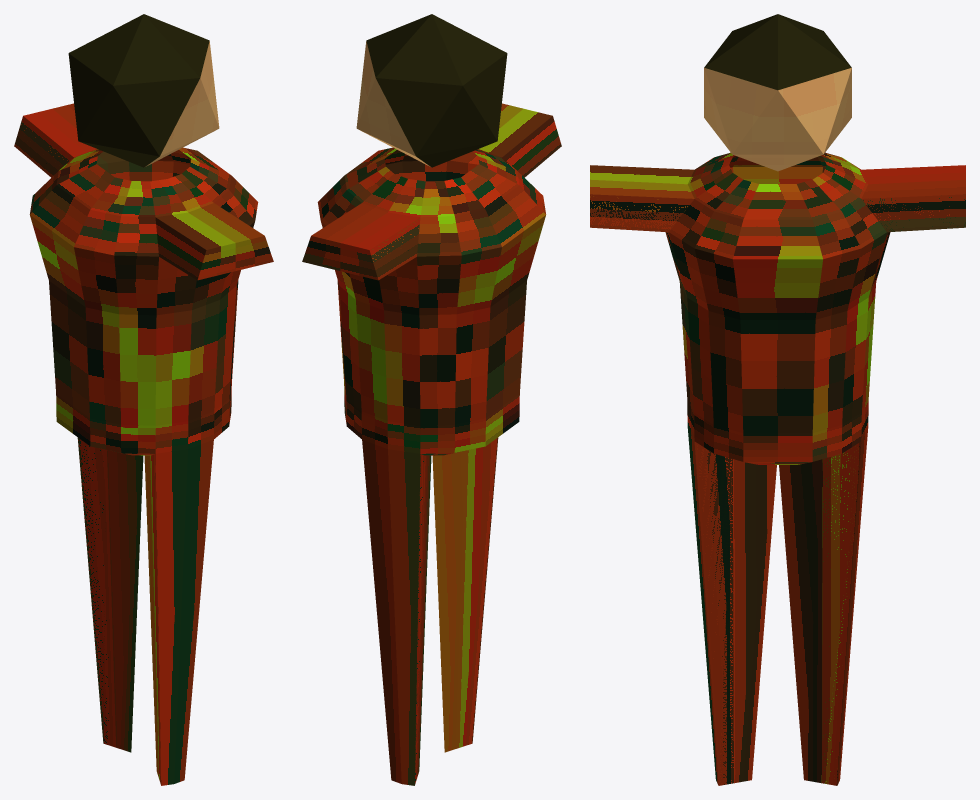
File: Humanoid 3_14 - LOD.fbx
3 views of the same model, side by side, from view 1: azimuth 30°, elevation 25°; view 2: azimuth 150°, elevation 25°; view 3: azimuth 270°, elevation 25° (orthographic). The views are drawn at different scales.
Visible parts, largest first — view 1: Body LOD, Head LOD; view 2: Body LOD, Head LOD; view 3: Body LOD, Head LOD.
Boxes of the visible parts, box(x1,y1,x2,y2) form: Body LOD: box(14, 103, 273, 785); Head LOD: box(68, 14, 219, 167); Body LOD: box(302, 103, 561, 785); Head LOD: box(356, 14, 507, 167); Body LOD: box(590, 152, 965, 785); Head LOD: box(704, 14, 851, 171).
Bounding box in the file's own units: 144 × 559 × 249.
3 materials, 2 textured.
